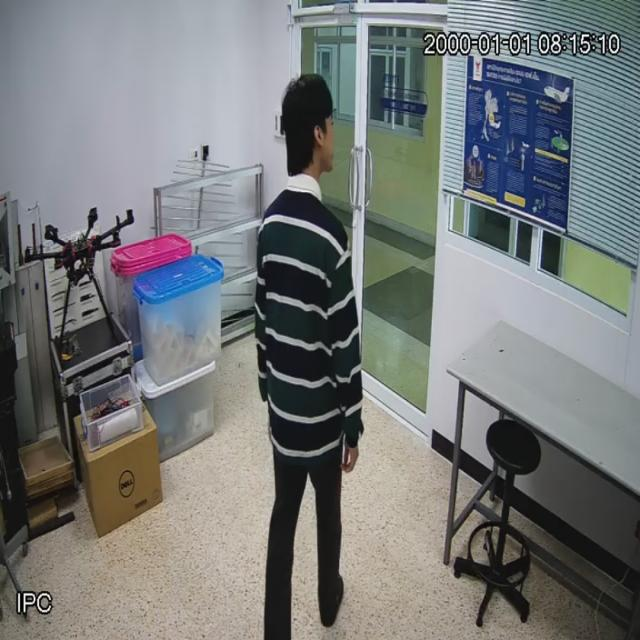normal: (246, 65, 367, 640)
